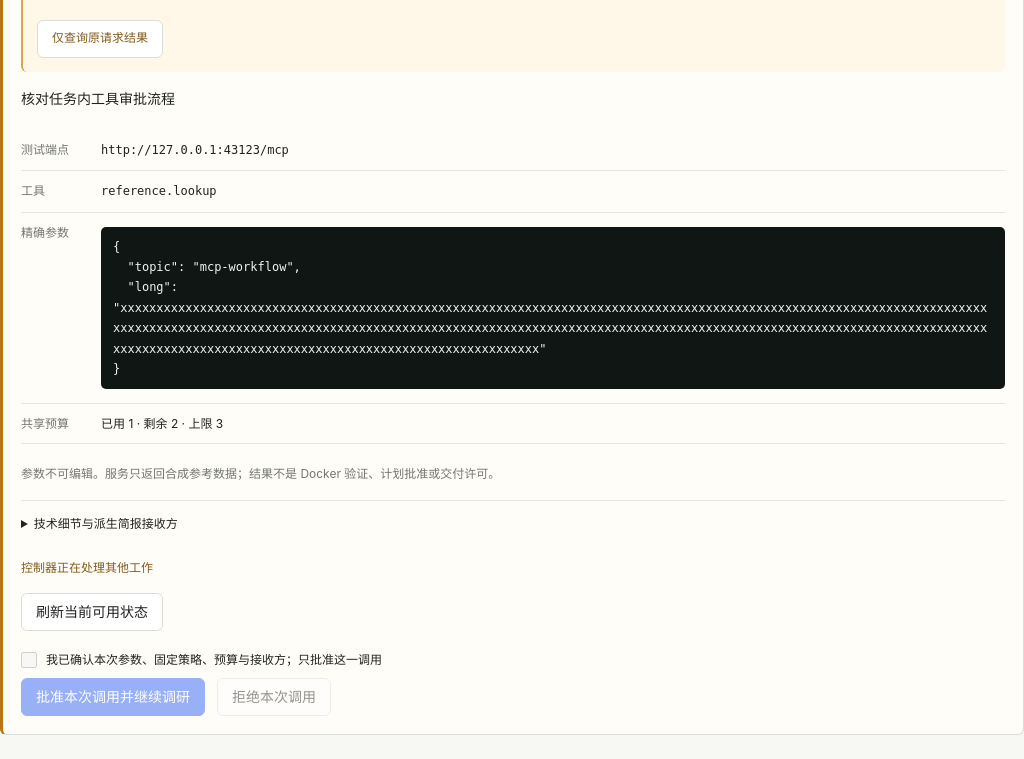
Scenario: keeps an original unresolved decision locked after a GET-only availability refresh
(page scrolled)
Expected: the text "控制器正在处理其他工作" is shown, [21,560,153,575]
Click the button "刷新当前可用状态" at (92, 612), box [21,593,163,631]
(page scrolled)
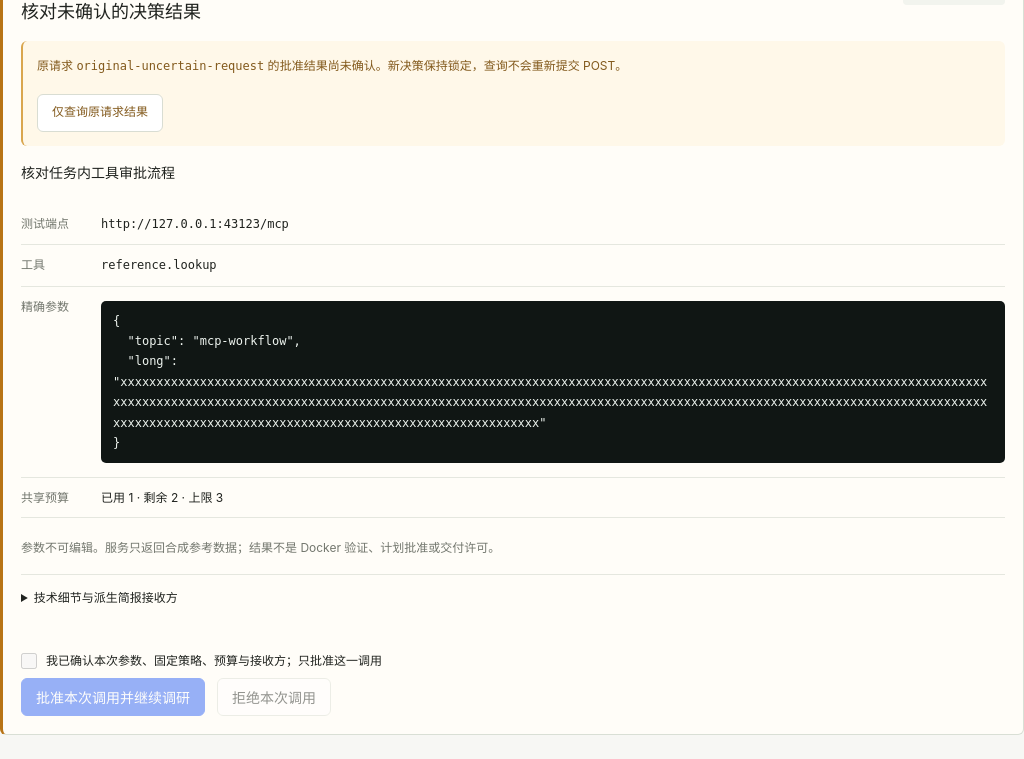
Expected: the text "original-uncertain-request" is shown, [76,59,264,73]
Result: the text "控制器正在处理其他工作" is gone
